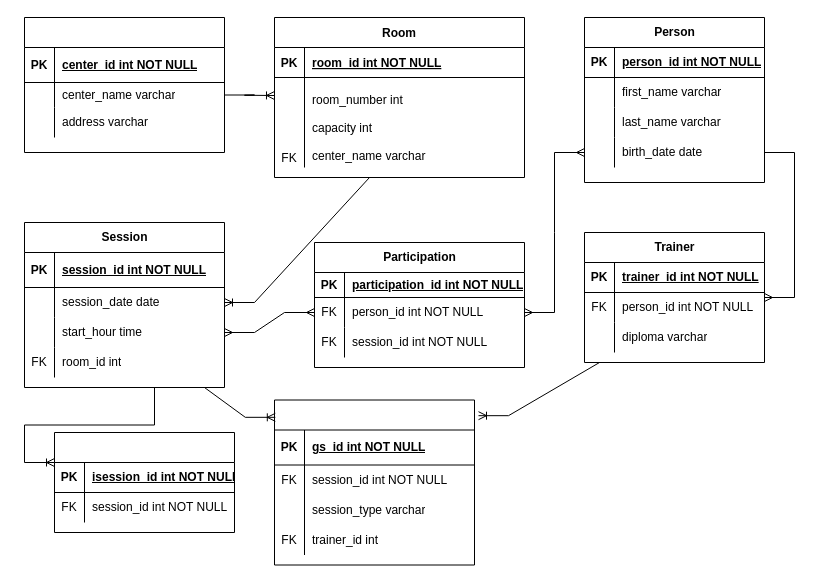
Image size: 820x583. Some labels were removed from this diagram. Here are the shapes that lost their labels. From the top down, the box of each, then its label:
(24, 16, 224, 152): Fitness_Center
(54, 432, 234, 532): Individual_Session
(274, 399, 474, 565): Group_Session
